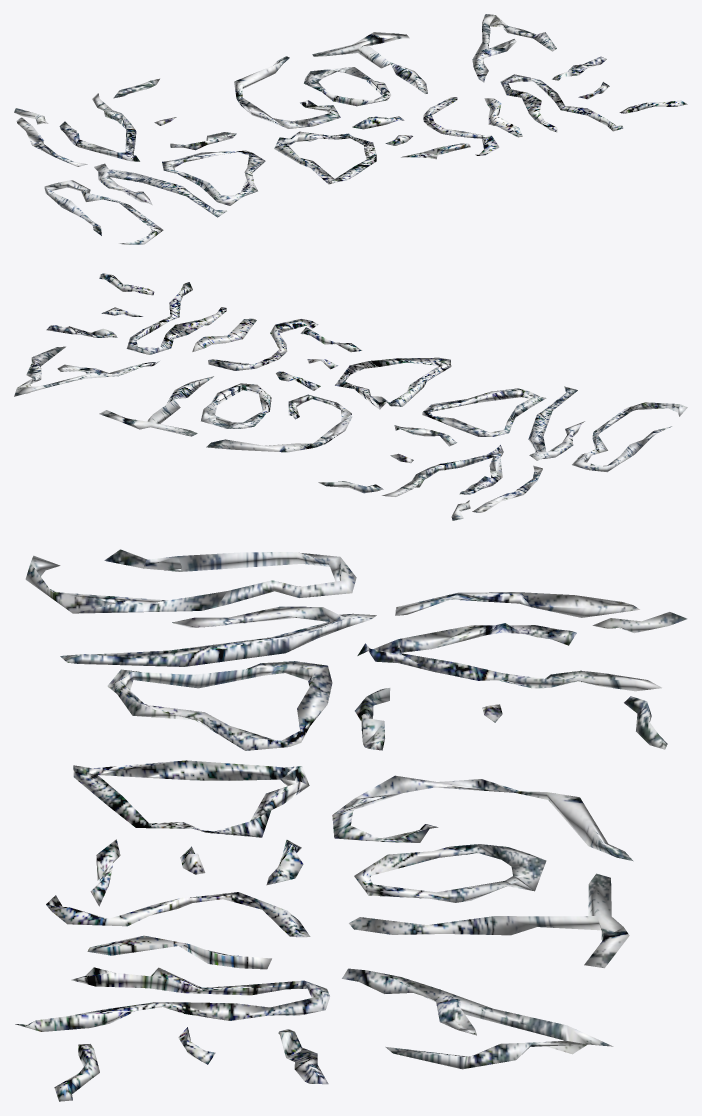
Rendered from 13_IVE_GOT_A_BAD_DESIRE.glb.
3 views of the same model, one above another, from view 1: azimuth 30°, elevation 25°; view 2: azimuth 150°, elevation 25°; view 3: azimuth 270°, elevation 25° (orthographic). The views are drawn at different scales.
Parts seen in each view (by area): view 1: 13_IVE_GOT_A_BAD_DESIRE; view 2: 13_IVE_GOT_A_BAD_DESIRE; view 3: 13_IVE_GOT_A_BAD_DESIRE.
Boxes of the visible parts, box(x1,y1,x2,y2) form: 13_IVE_GOT_A_BAD_DESIRE: box(14, 14, 687, 244); 13_IVE_GOT_A_BAD_DESIRE: box(14, 273, 687, 520); 13_IVE_GOT_A_BAD_DESIRE: box(15, 549, 687, 1101).
Size of the model in its own units: 4.58 by 0.0935 by 2.39.
1 material, 1 textured.
